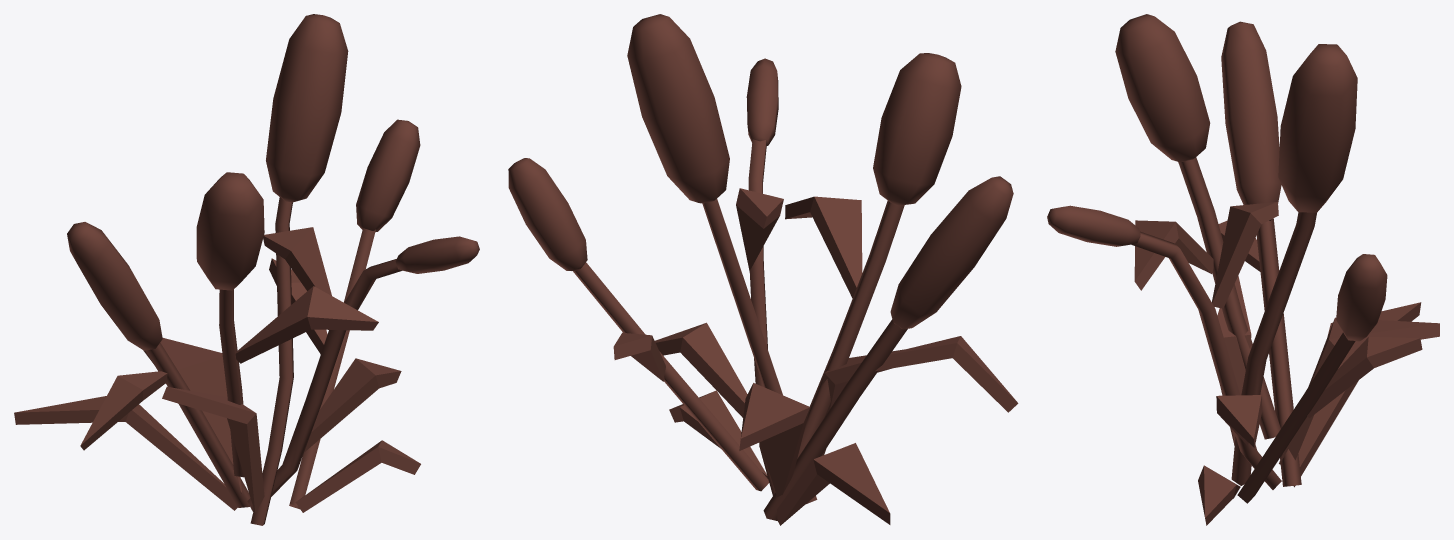
File: g_reed.fbx
3 renders of one model, left to right at view 1: azimuth 30°, elevation 25°; view 2: azimuth 150°, elevation 25°; view 3: azimuth 270°, elevation 25°, orthographic. The views are drawn at different scales.
Parts seen in each view (by area): view 1: g_reed; view 2: g_reed; view 3: g_reed.
Boxes of the visible parts, x1,y1,x2,y2 form: g_reed: (14, 14, 479, 525); g_reed: (508, 14, 1018, 525); g_reed: (1047, 14, 1439, 525).
Bounding box in the file's own units: 63.71 × 49.89 × 68.88.
